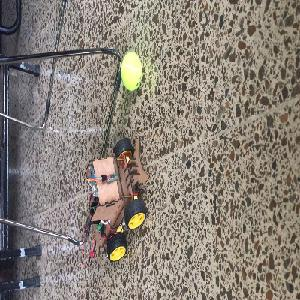Ball: (122, 52, 140, 90)
Robot: (83, 137, 148, 261)
